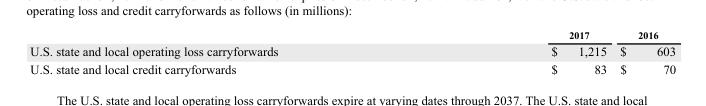table: (29, 28, 675, 75)
table column: (29, 28, 413, 75), (413, 28, 612, 75), (612, 28, 675, 75)
table column header: (29, 28, 675, 41)
table row: (29, 41, 675, 59), (29, 59, 675, 75), (29, 28, 675, 41)
